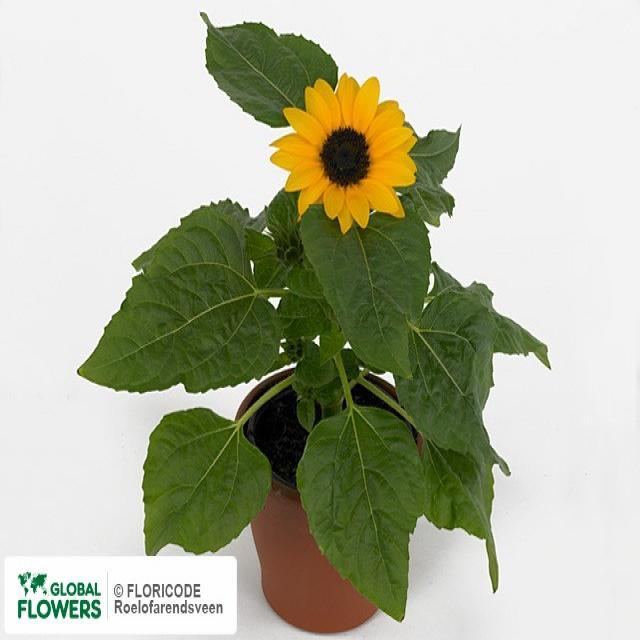sunflower: (268, 72, 417, 234)
